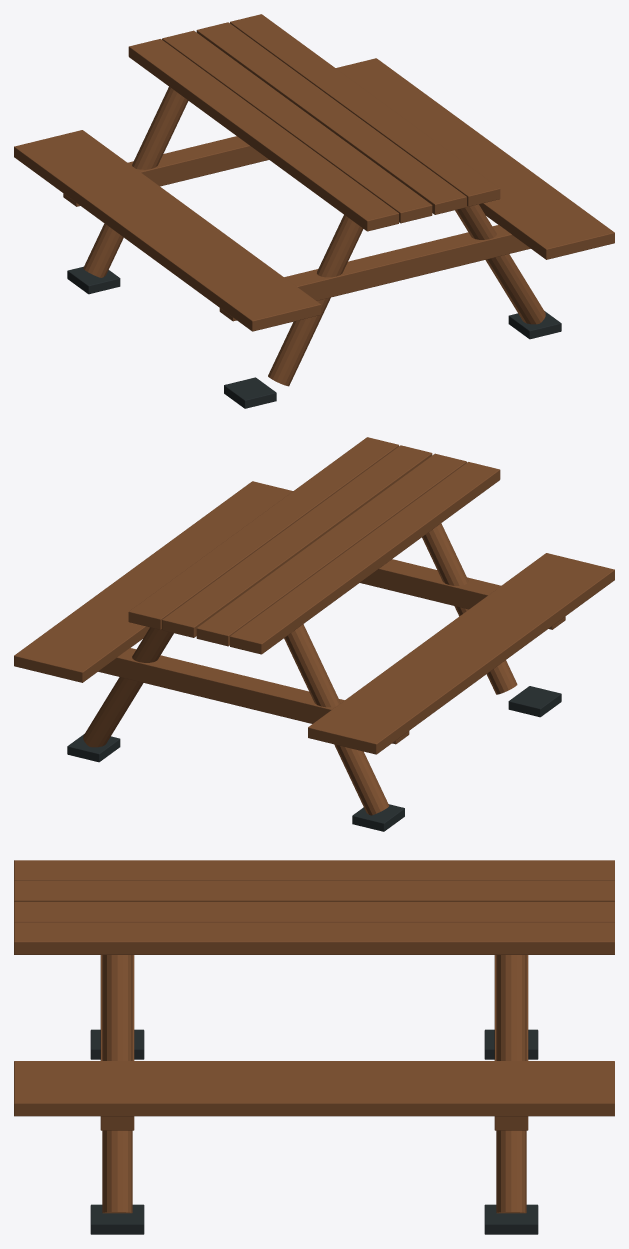
The model's file is source-edit.glb.
The picture shows the model from 3 angles, top to bottom: view 1: azimuth 30°, elevation 25°; view 2: azimuth 150°, elevation 25°; view 3: azimuth 270°, elevation 25°; orthographic projection. The views are drawn at different scales.
Parts seen in each view (by area): view 1: Fixed_Bench, Fixed_Bench.001, Table_Plank, Table_Plank.002, Table_Plank.003, Table_Plank.001, Bench_Bearer.001, Bench_Bearer, A_Frame_Leg.001, A_Frame_Leg.003, A_Frame_Leg.002, Foot_Pad (+2 smaller); view 2: Fixed_Bench, Fixed_Bench.001, Table_Plank, Table_Plank.002, Table_Plank.003, Table_Plank.001, Bench_Bearer, A_Frame_Leg.003, Bench_Bearer.001, A_Frame_Leg, A_Frame_Leg.001, Foot_Pad (+2 smaller); view 3: Fixed_Bench.001, Table_Plank.003, Table_Plank.001, Table_Plank, Table_Plank.002, A_Frame_Leg.002, A_Frame_Leg, Foot_Pad.002, Foot_Pad.003, Bench_Bearer, Bench_Bearer.001, Foot_Pad (+1 smaller).
Boxes of the visible parts, bbox=[...] form: Fixed_Bench: bbox=[14, 130, 320, 331]; Fixed_Bench.001: bbox=[336, 58, 614, 259]; Table_Plank: bbox=[128, 39, 398, 231]; Table_Plank.002: bbox=[196, 22, 466, 214]; Table_Plank.003: bbox=[230, 14, 500, 206]; Table_Plank.001: bbox=[162, 30, 432, 223]; Bench_Bearer.001: bbox=[219, 225, 530, 321]; Bench_Bearer: bbox=[63, 136, 268, 206]; A_Frame_Leg.001: bbox=[268, 215, 363, 386]; A_Frame_Leg.003: bbox=[83, 86, 188, 277]; A_Frame_Leg.002: bbox=[455, 204, 545, 324]; Foot_Pad: bbox=[224, 377, 276, 408]; Fixed_Bench: bbox=[308, 553, 614, 754]; Fixed_Bench.001: bbox=[14, 481, 292, 682]; Table_Plank: bbox=[230, 462, 500, 654]; Table_Plank.002: bbox=[162, 445, 432, 637]; Table_Plank.003: bbox=[128, 437, 398, 629]; Table_Plank.001: bbox=[196, 453, 466, 646]; Bench_Bearer: bbox=[98, 648, 409, 744]; A_Frame_Leg.003: bbox=[284, 624, 389, 815]; Bench_Bearer.001: bbox=[360, 559, 565, 629]; A_Frame_Leg: bbox=[83, 627, 173, 747]; A_Frame_Leg.001: bbox=[422, 523, 517, 694]; Foot_Pad: bbox=[508, 686, 561, 717]; Fixed_Bench.001: bbox=[14, 1061, 614, 1116]; Table_Plank.003: bbox=[14, 922, 614, 954]; Table_Plank.001: bbox=[14, 880, 614, 901]; Table_Plank: bbox=[14, 860, 614, 880]; Table_Plank.002: bbox=[14, 902, 614, 922]; A_Frame_Leg.002: bbox=[102, 955, 132, 1213]; A_Frame_Leg: bbox=[496, 955, 526, 1213]; Foot_Pad.002: bbox=[90, 1204, 144, 1234]; Foot_Pad.003: bbox=[484, 1204, 538, 1234]; Bench_Bearer: bbox=[494, 955, 528, 1130]; Bench_Bearer.001: bbox=[100, 955, 134, 1130]; Foot_Pad: bbox=[90, 1029, 144, 1059].
Bounding box in the file's own units: 1.58 × 0.7825 × 1.8.
